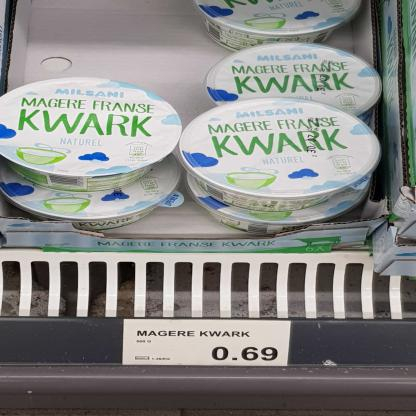prtg: (124, 320, 292, 367)
